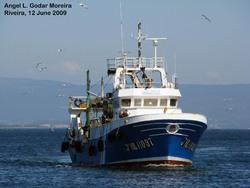otherboat: (58, 8, 209, 172)
